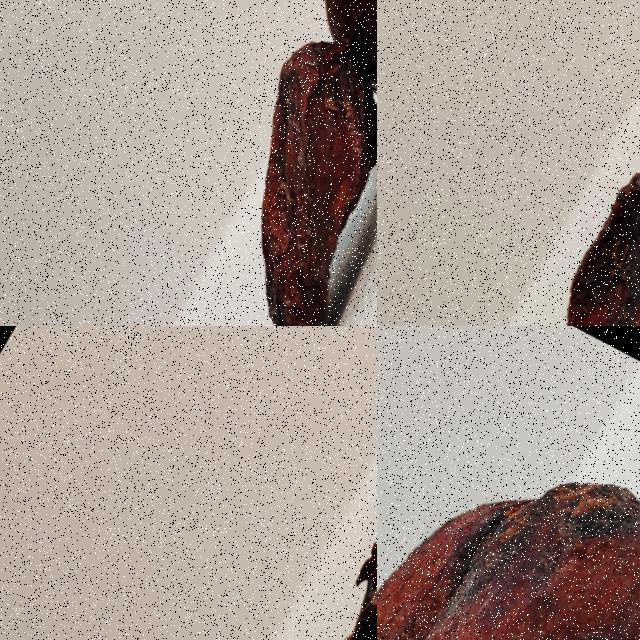Agglomerated_cocoabeans: (63, 0, 376, 325), (377, 326, 639, 639)
Flat_cocoabeans: (461, 102, 639, 325), (261, 396, 376, 639)
